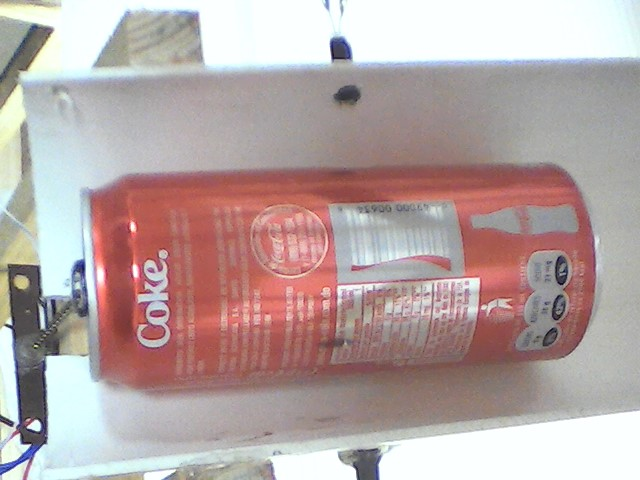lata: (77, 159, 613, 398)
